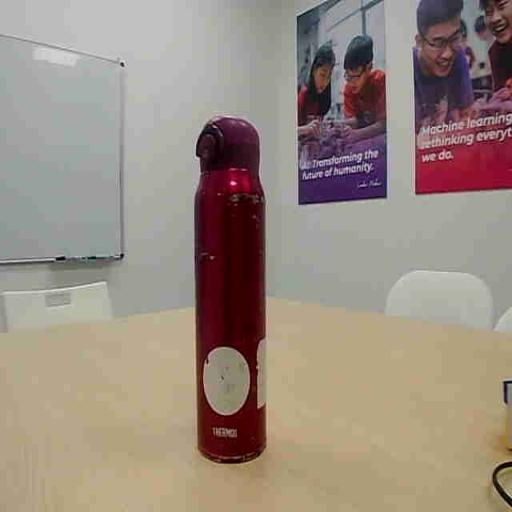bottle: (195, 118, 266, 461)
